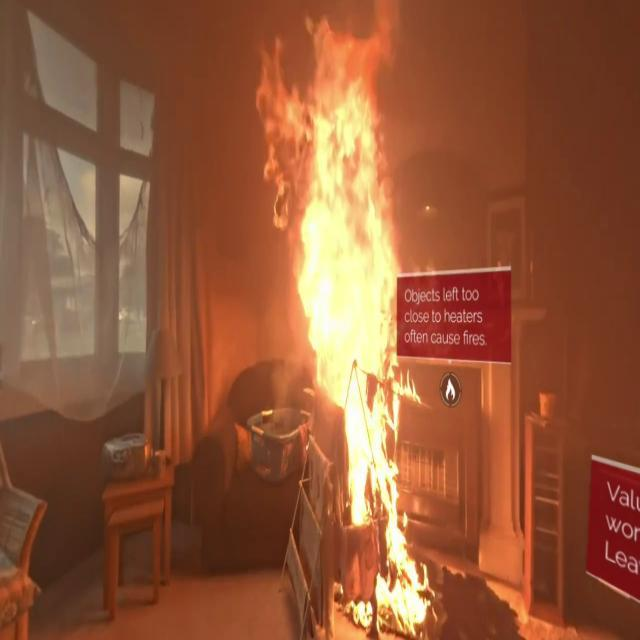Fire: (252, 8, 437, 626)
